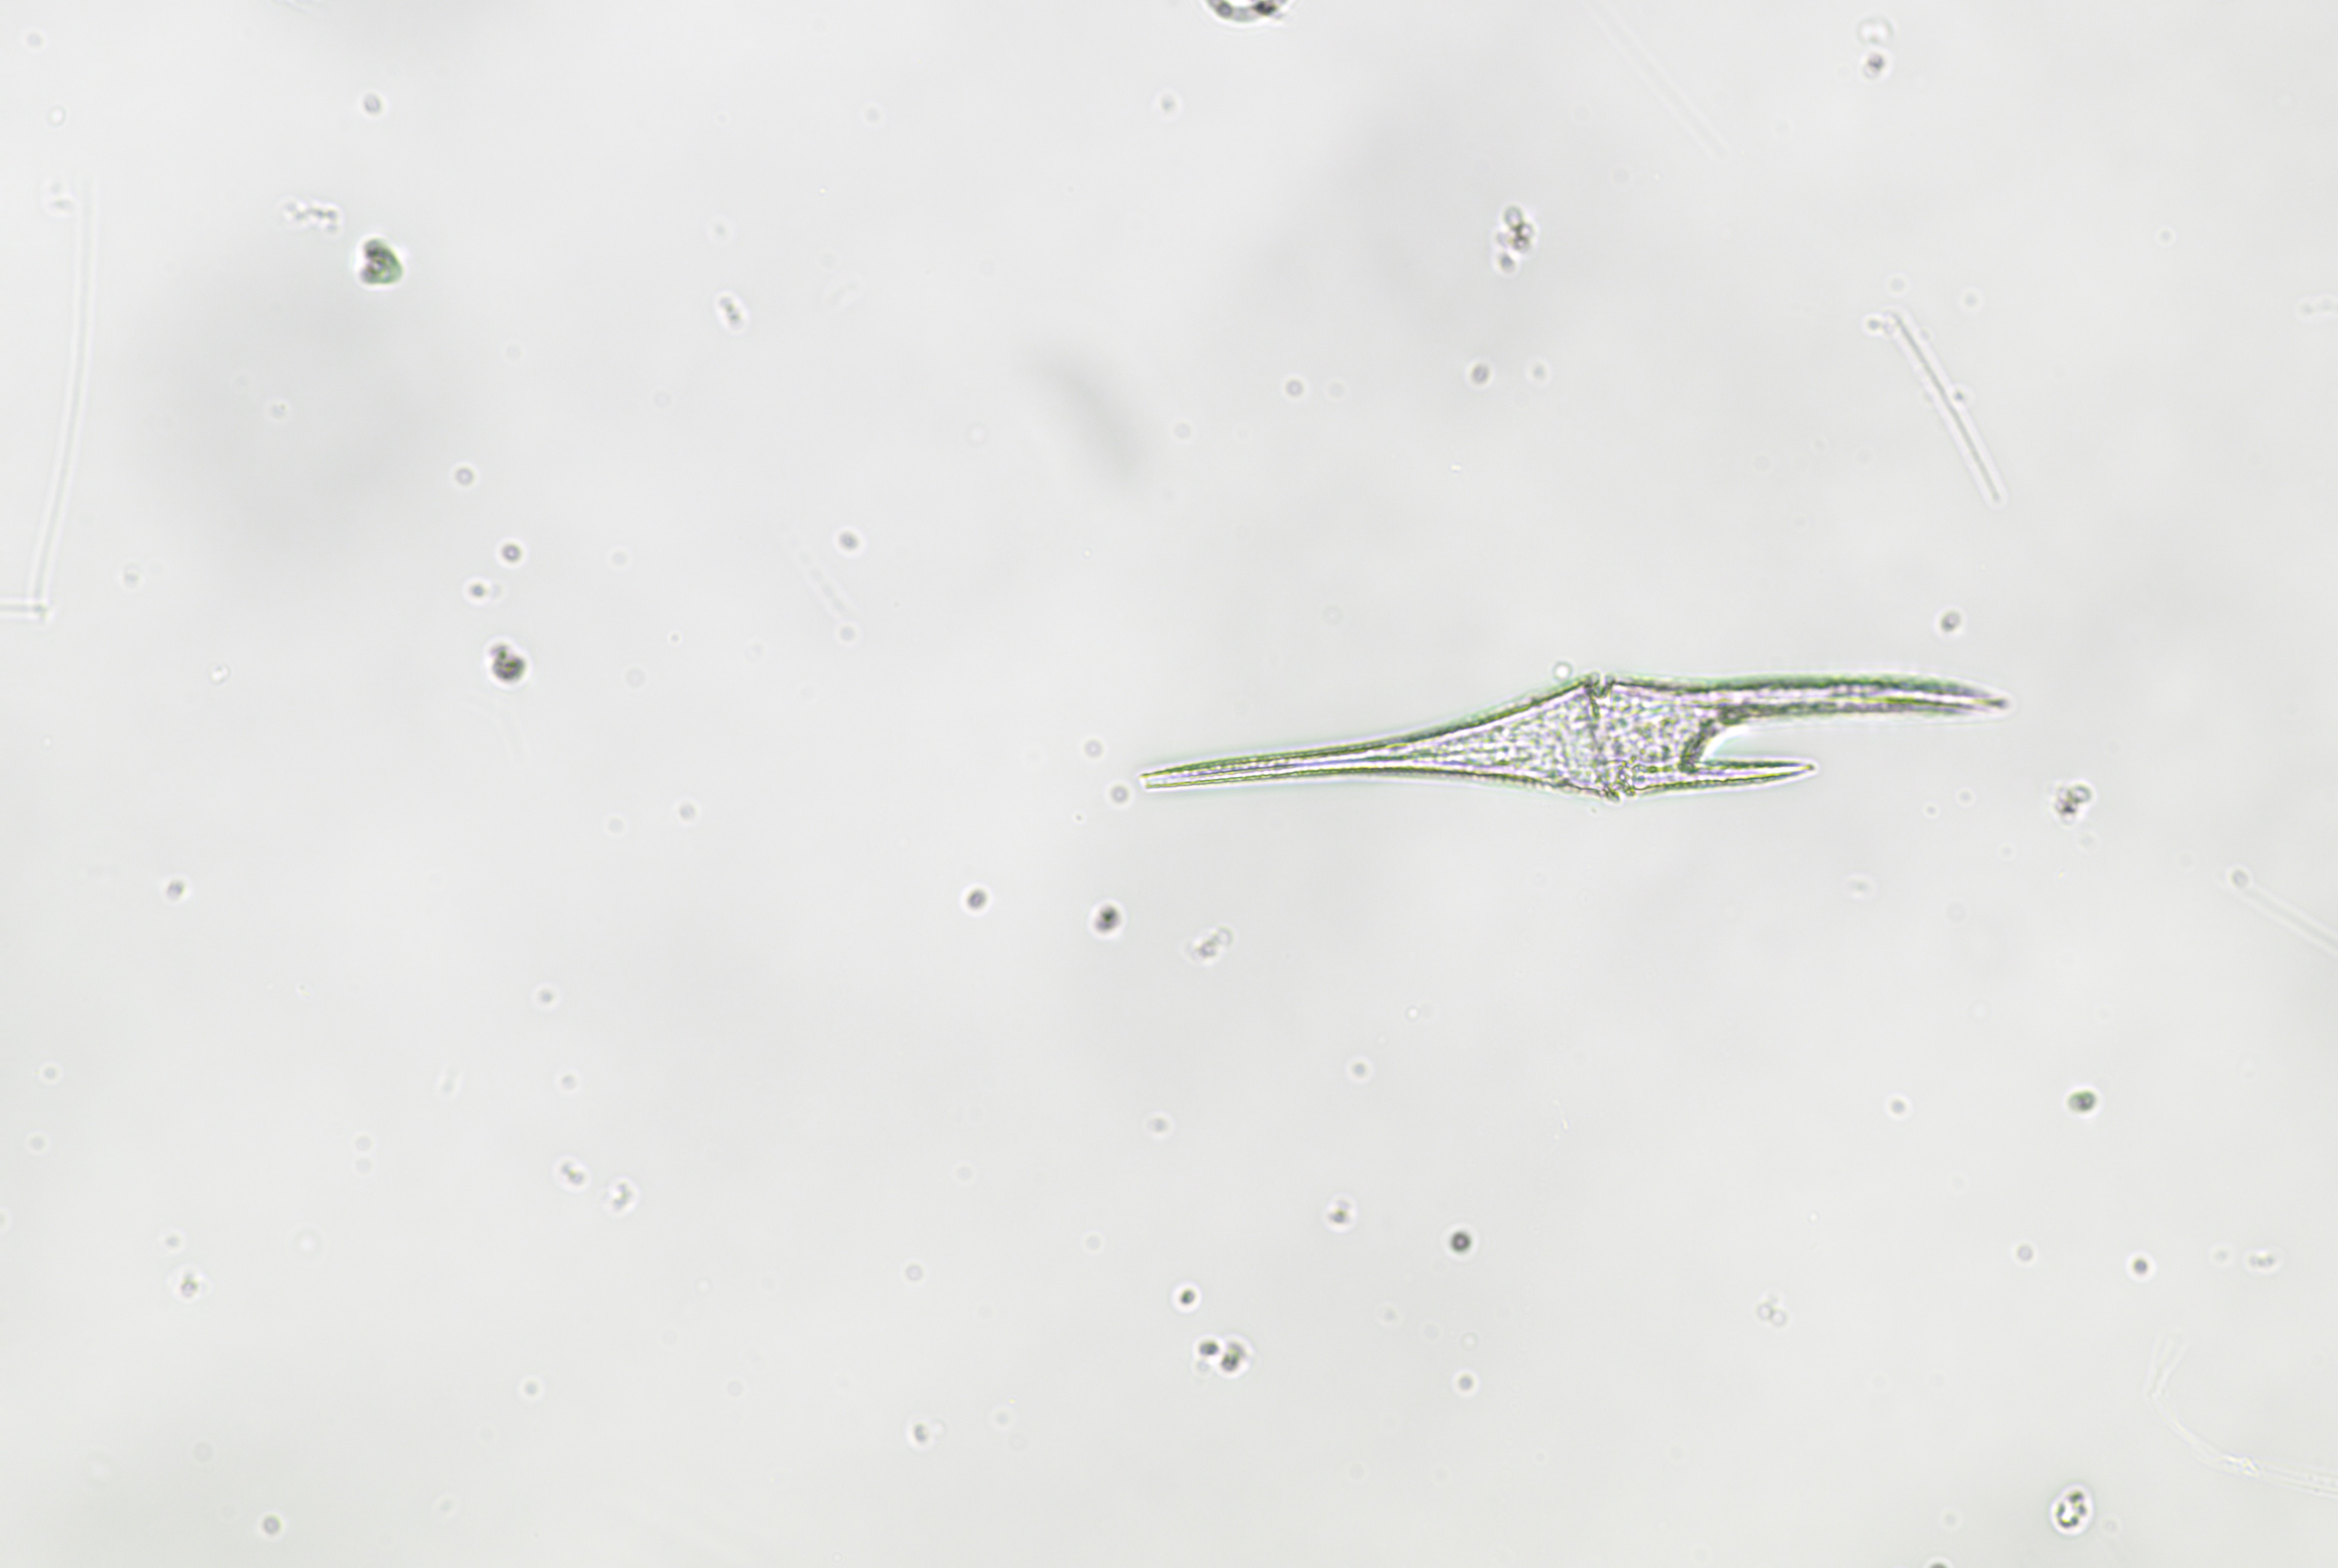ceratium furca: (1123, 639, 2030, 842)
